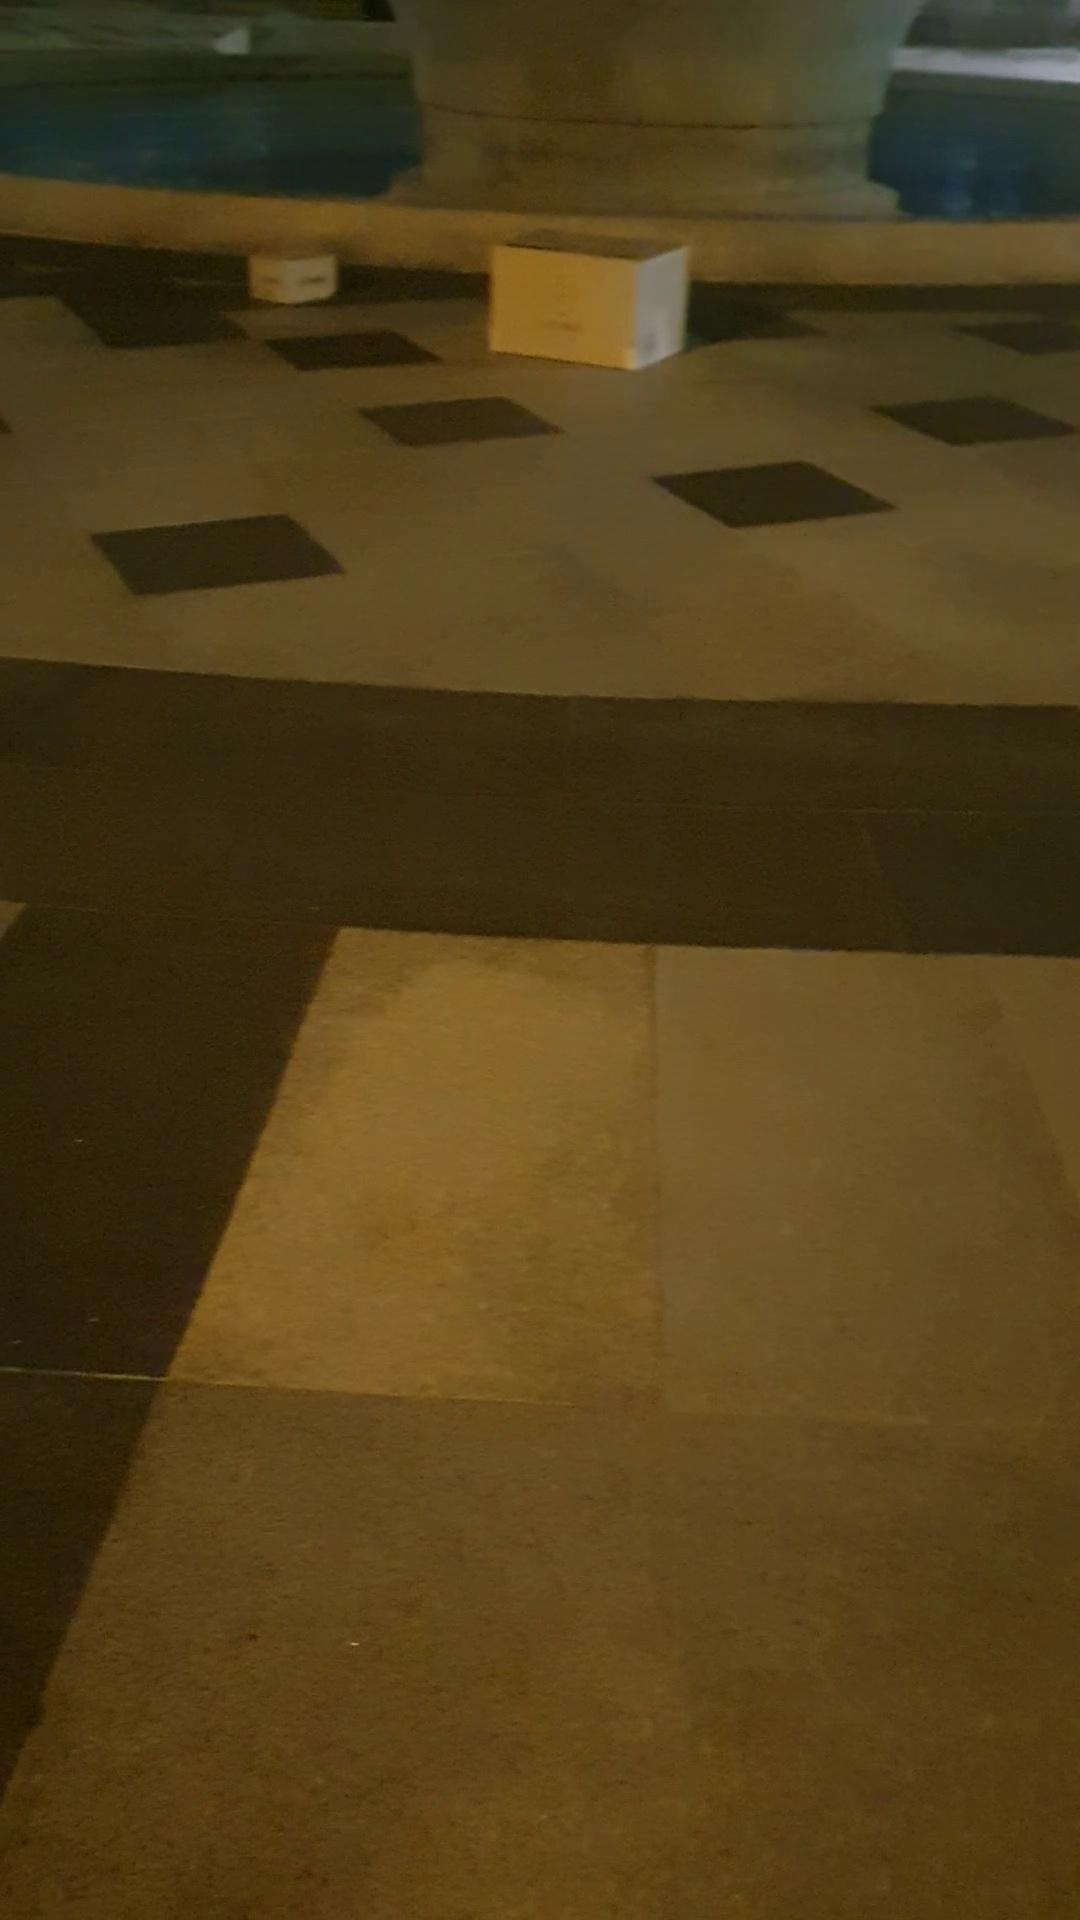Box: (481, 215, 695, 375), (243, 228, 347, 310)
